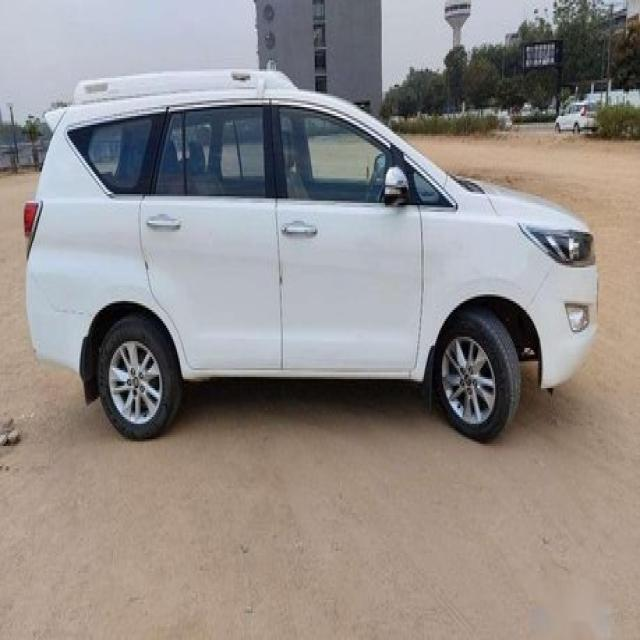light_vehicle: (22, 69, 600, 446)
